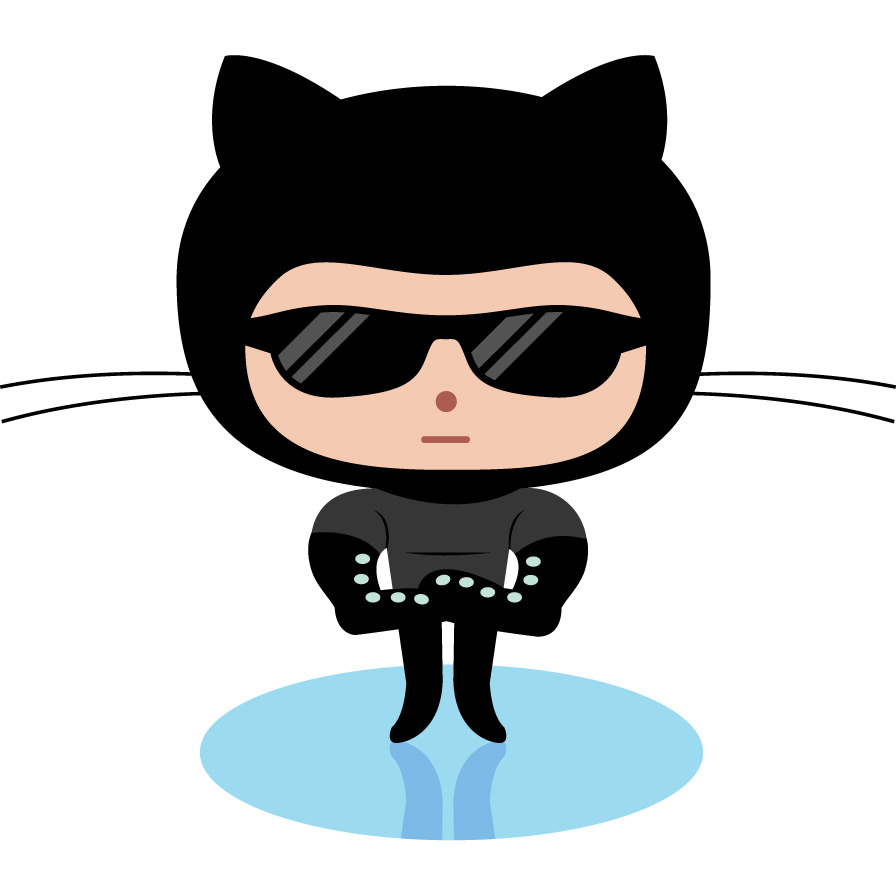Bouncer: (175, 51, 711, 839)
